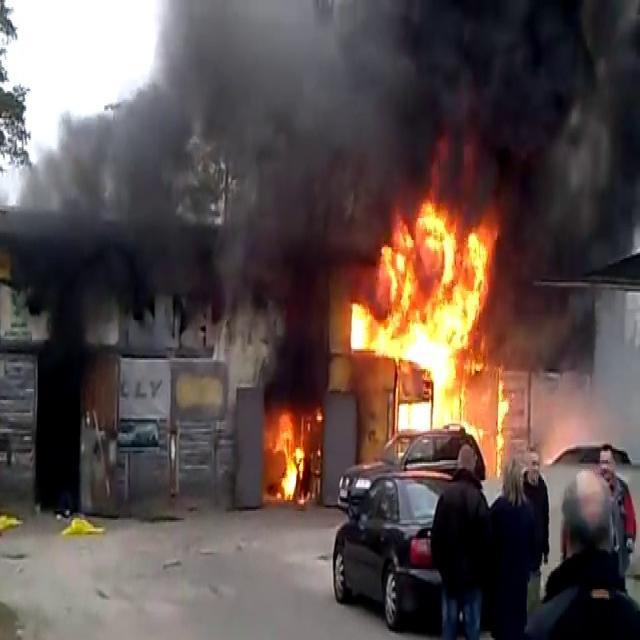Fire: (344, 190, 512, 414), (261, 393, 321, 502)
Smoke: (1, 0, 640, 271)
